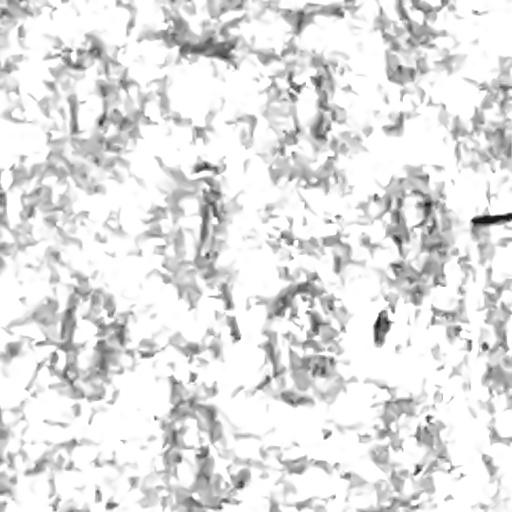egg: (471, 212, 511, 225)
